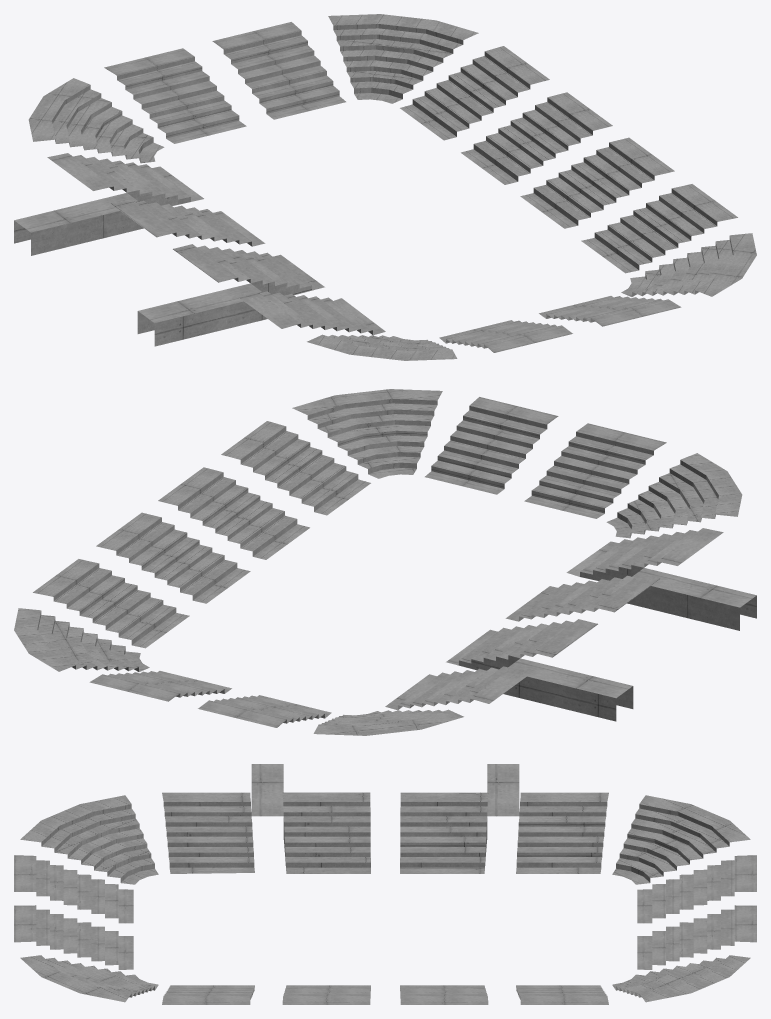
File: Floor.FBX
3 views of the same model, one above another, from view 1: azimuth 30°, elevation 25°; view 2: azimuth 150°, elevation 25°; view 3: azimuth 270°, elevation 25° (orthographic). The views are drawn at different scales.
Visible parts, largest first — view 1: Floor; view 2: Floor; view 3: Floor.
Part boxes in pixels (x1,y1,x2,y2): Floor: (14, 14, 756, 360); Floor: (14, 389, 756, 735); Floor: (14, 764, 756, 1004).
Size of the model in its own units: 64.9 by 3.74 by 81.69.
